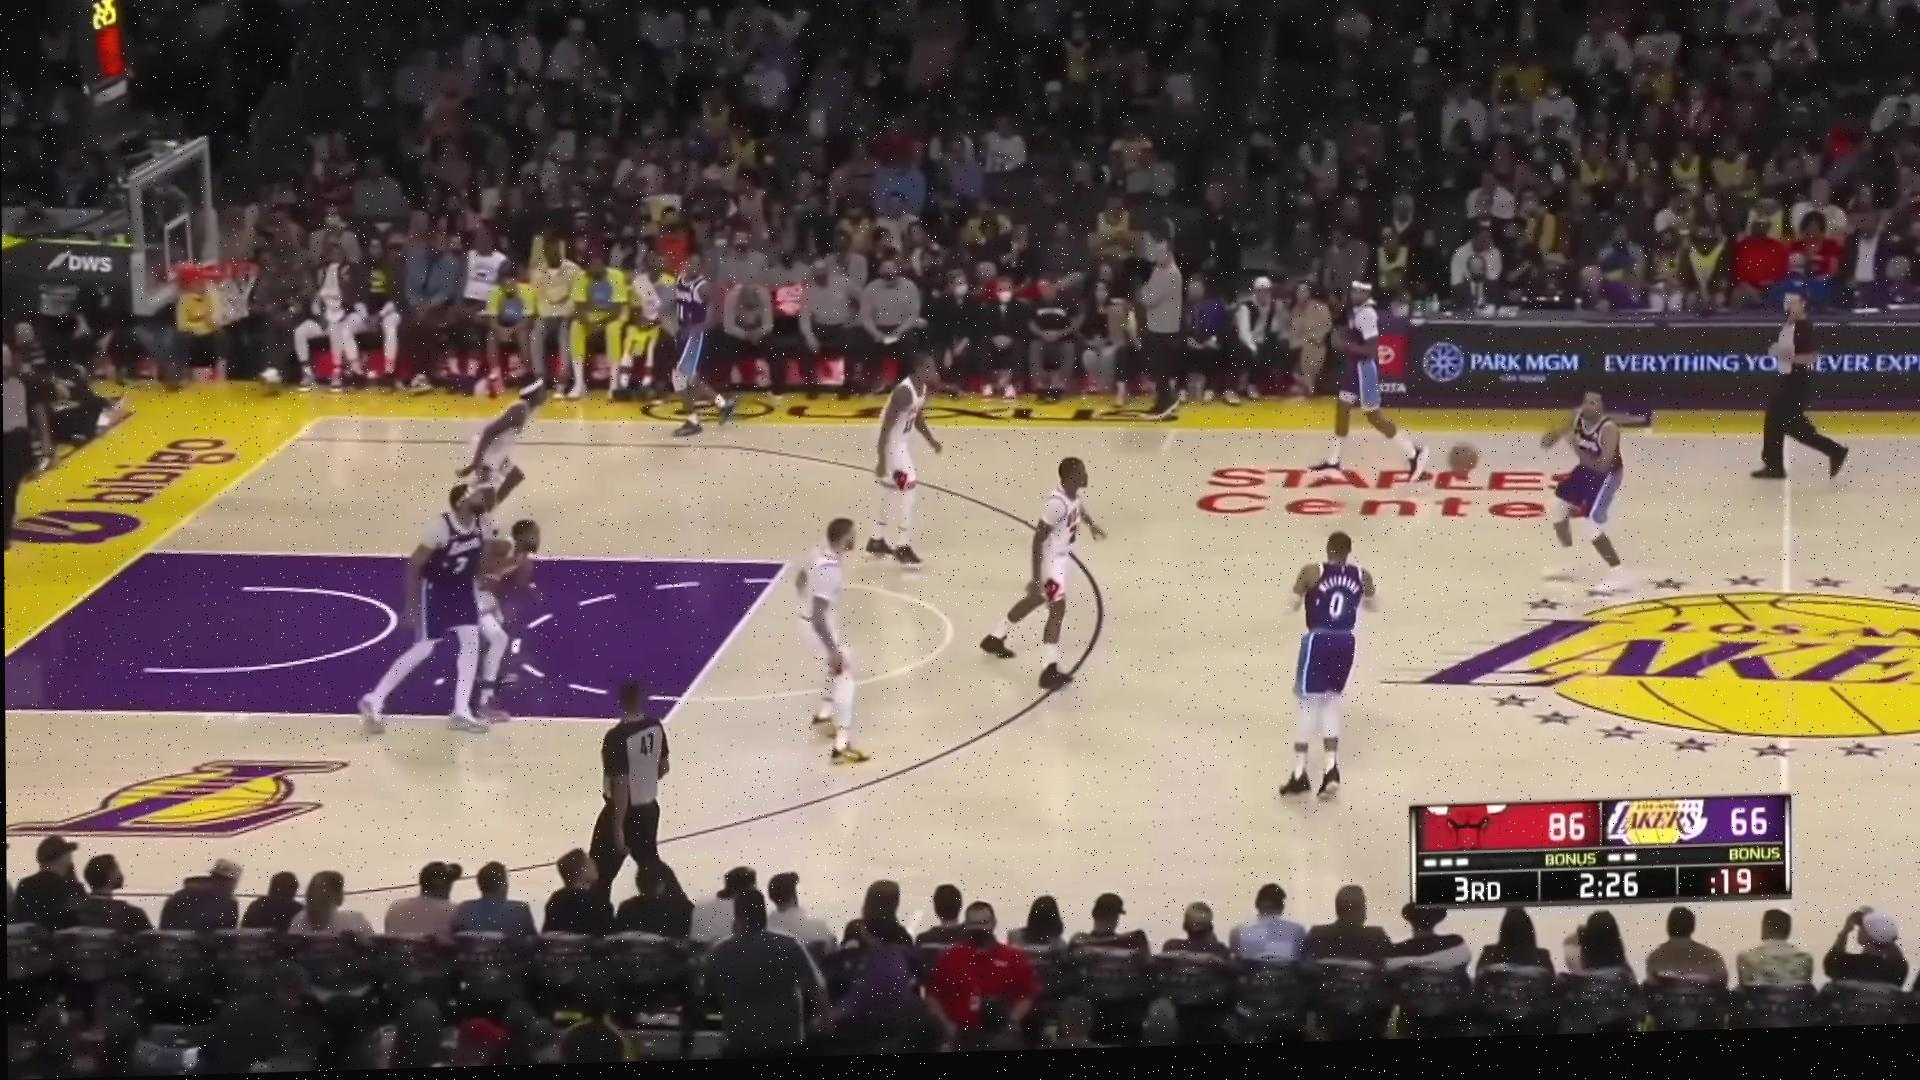foul: (351, 469, 546, 740)
